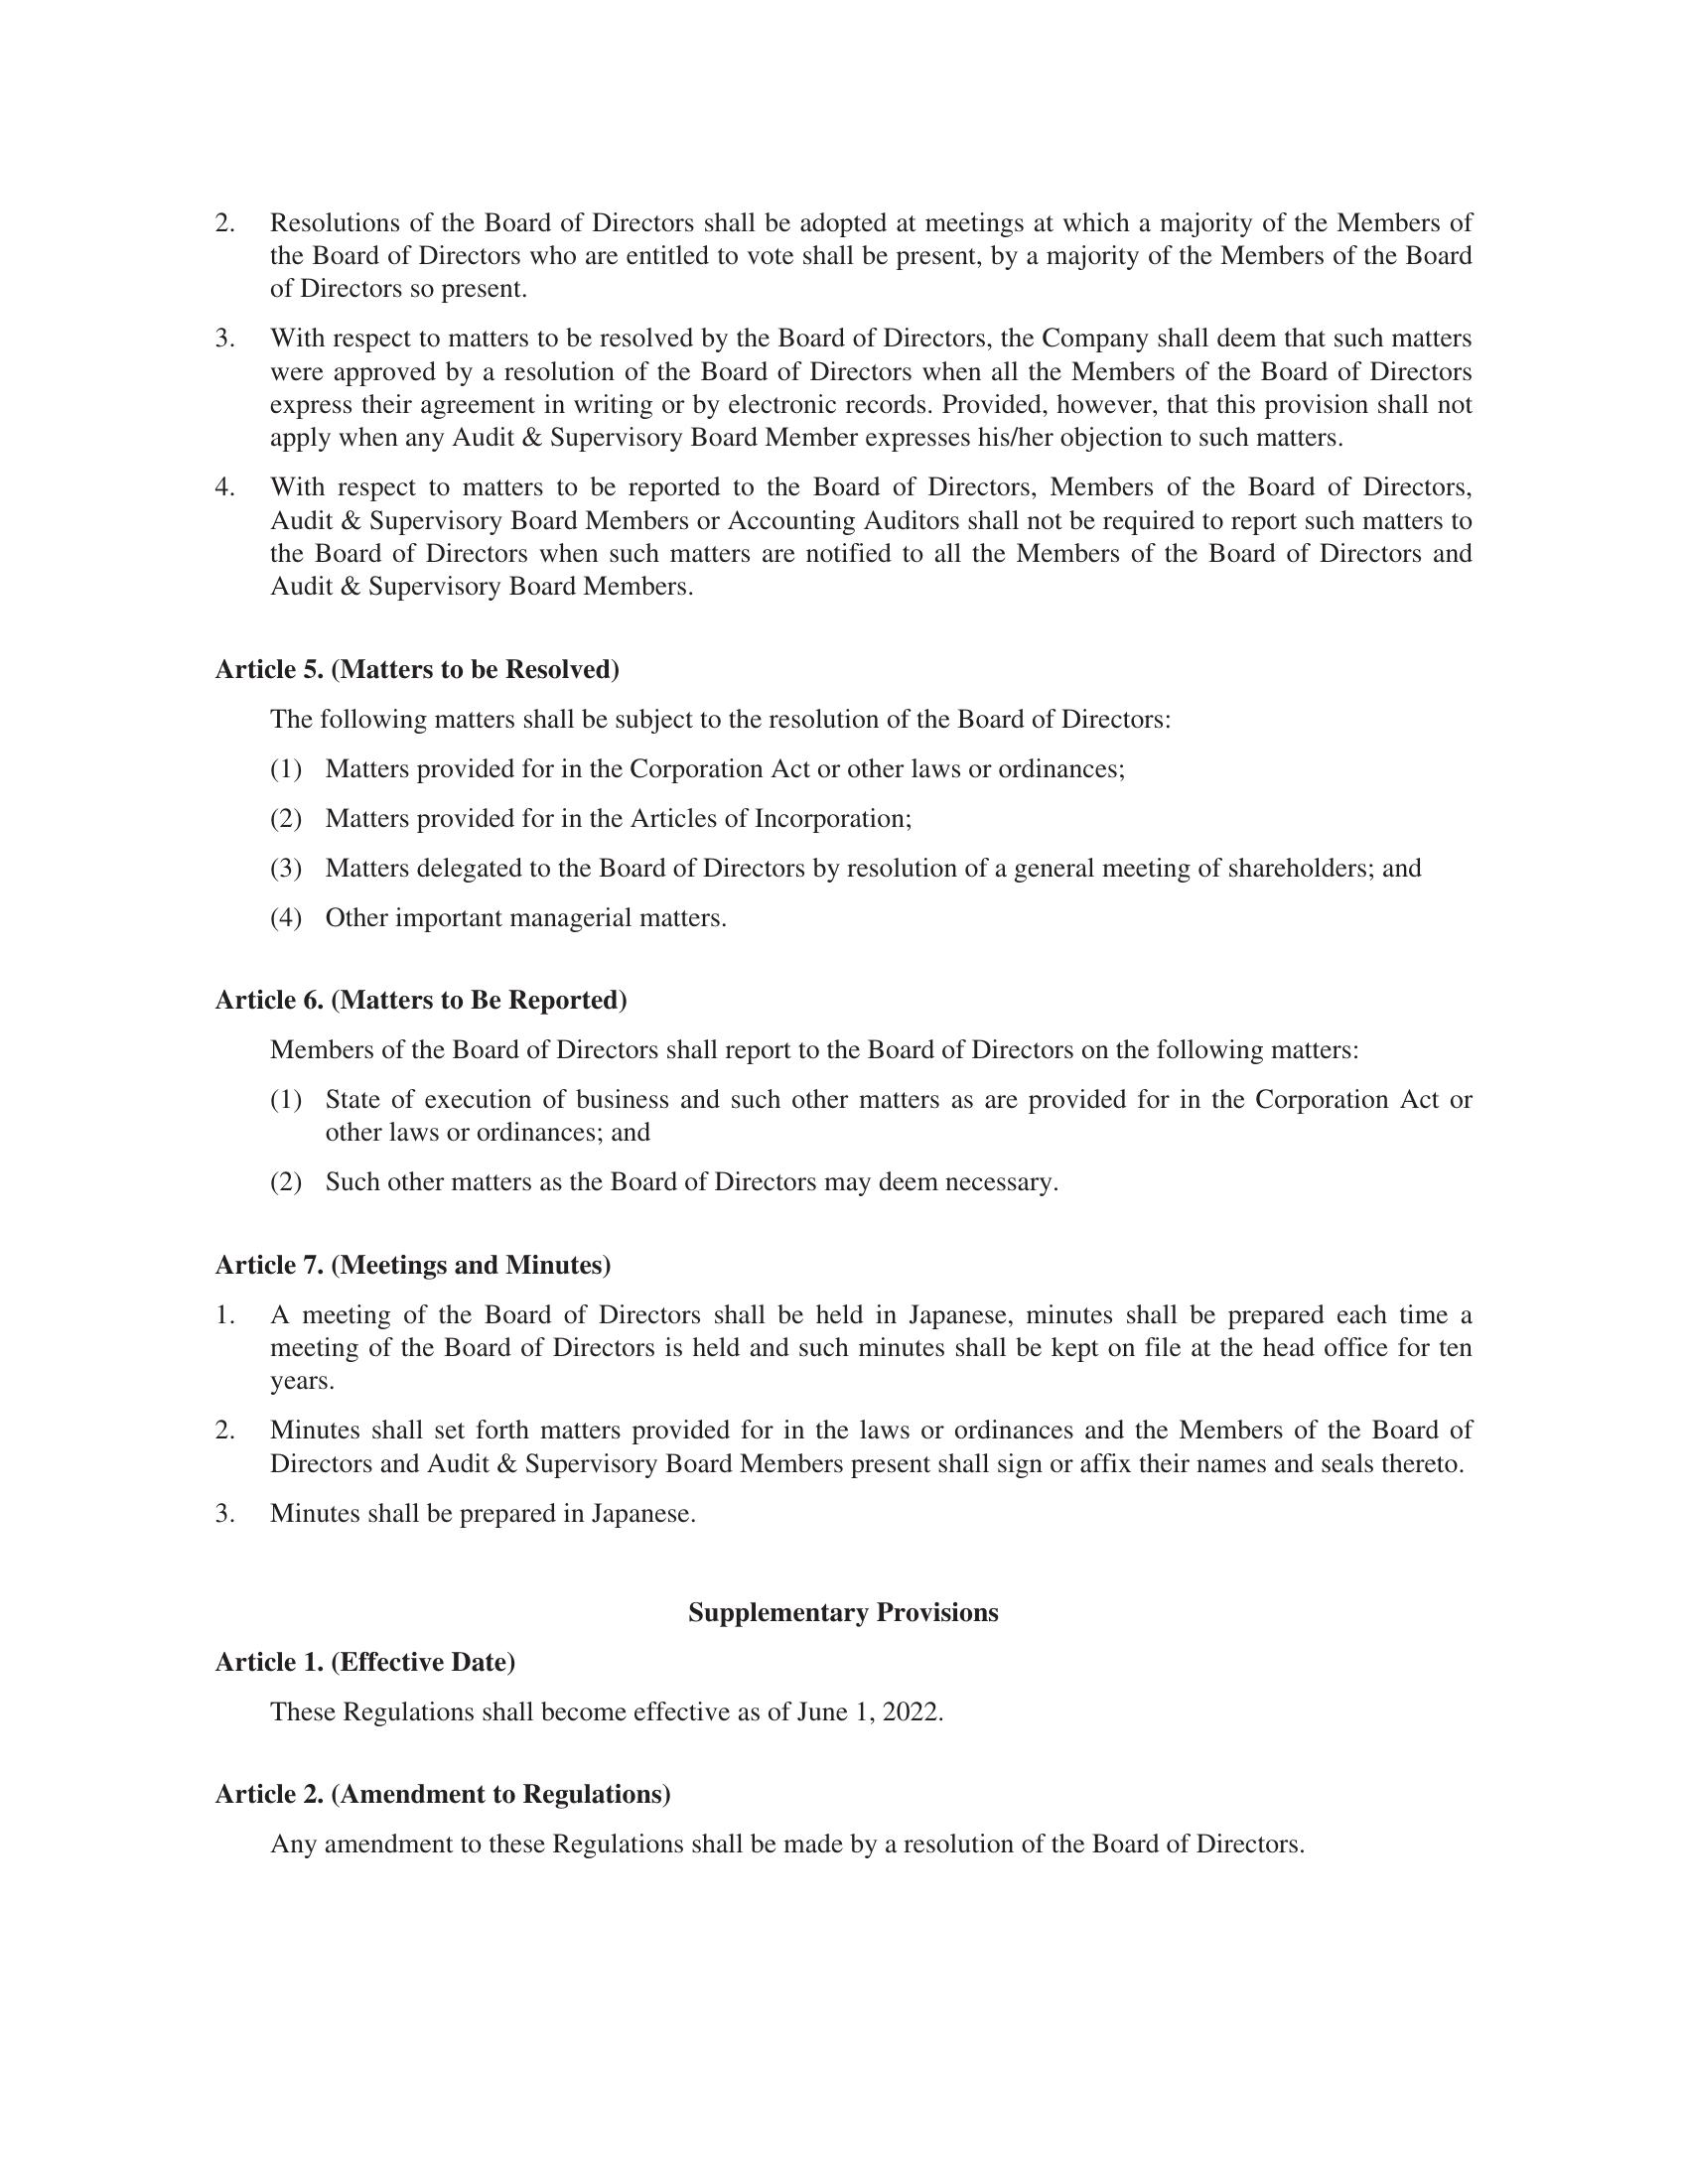Footer: (0, 1975, 1688, 2184)
Header: (0, 0, 1688, 152)
